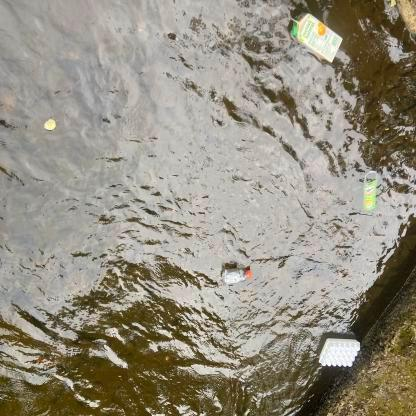Metal: (361, 164, 382, 216)
Plastic: (318, 331, 364, 374), (218, 262, 256, 288)
